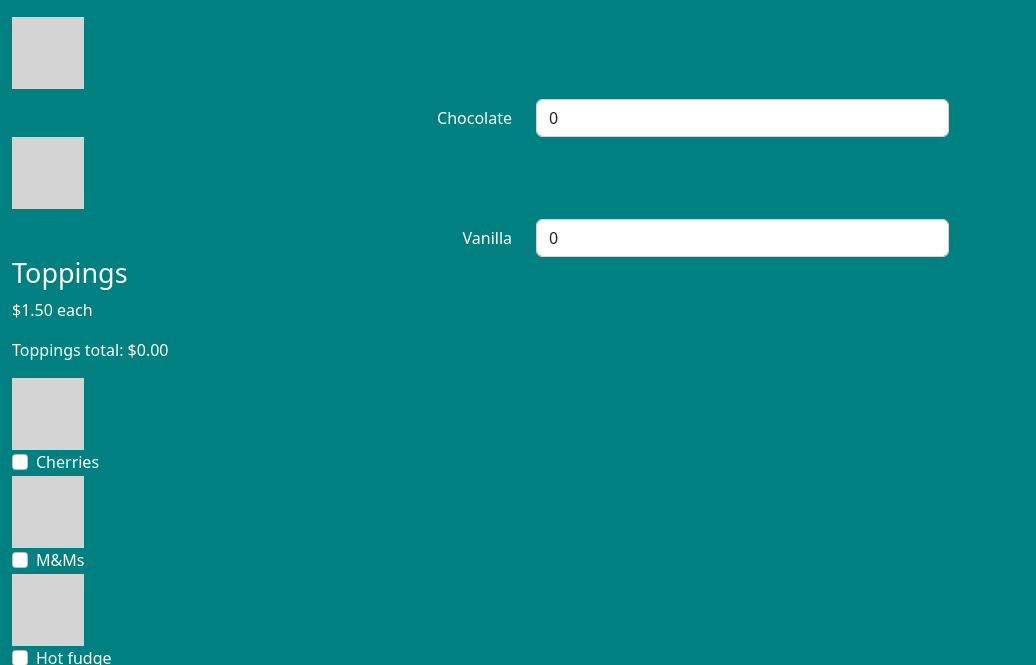
Test: grand total › grand total updates properly if topping is added first
Click the checkbox labelled "Cherries" at x=20, y=462, box [12,454,28,470]
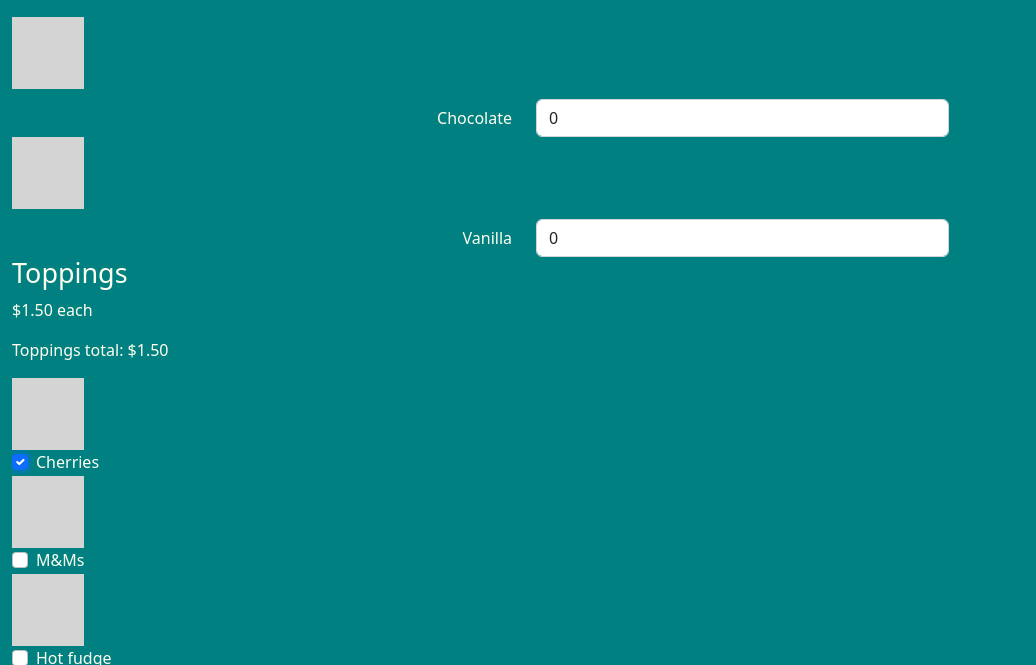
Replace the text in the number field labelled "Vanilla" with "2" at x=742, y=238, box [536,219,949,257]
(page scrolled)
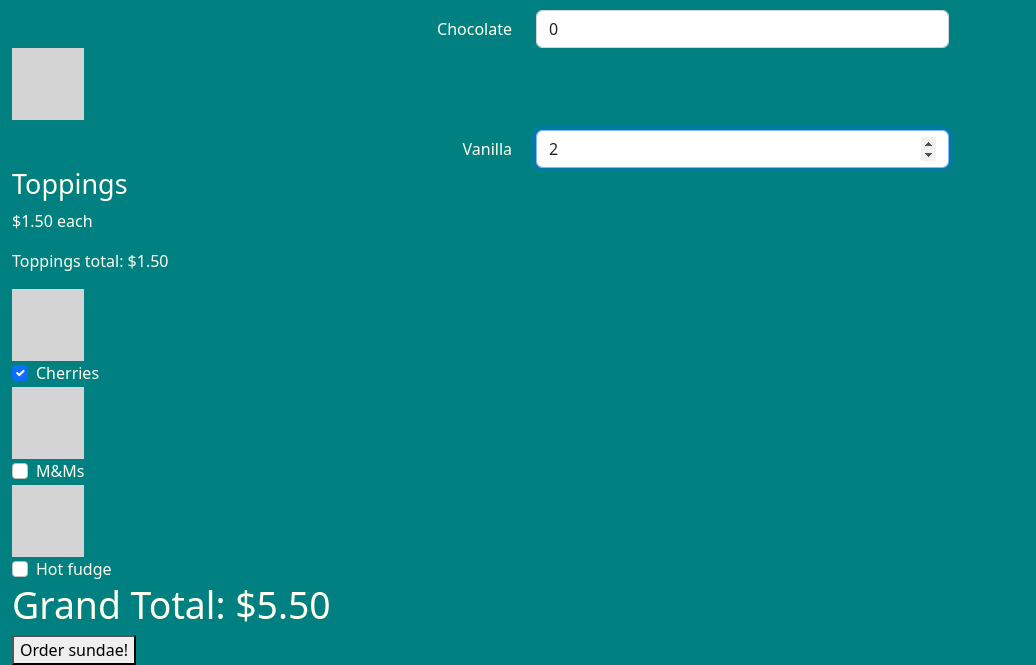
Expected: the heading "Grand Total: $5.50" is shown, [12,579,331,630]
